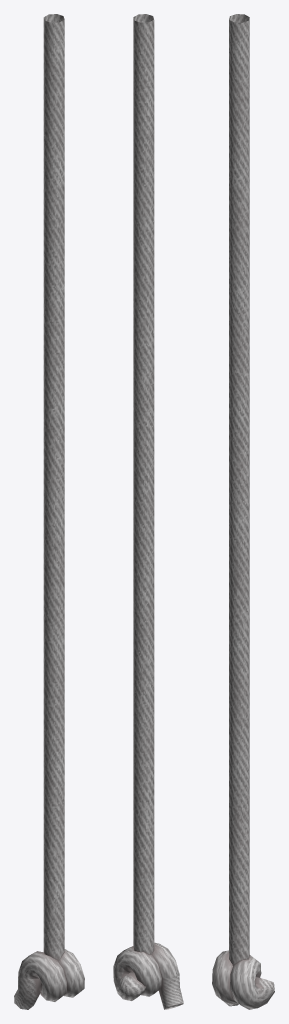
Rendered from tool_Rope.fbx.
3 views of the same model, side by side, from view 1: azimuth 30°, elevation 25°; view 2: azimuth 210°, elevation 25°; view 3: azimuth 330°, elevation 25° (orthographic).
Parts seen in each view (by area): view 1: rope; view 2: rope; view 3: rope.
Part boxes in pixels (x1,y1,x2,y2): rope: (14, 14, 84, 1009); rope: (113, 14, 183, 1009); rope: (212, 14, 274, 1009).
Size of the model in its own units: 6.53 by 105 by 5.88.
